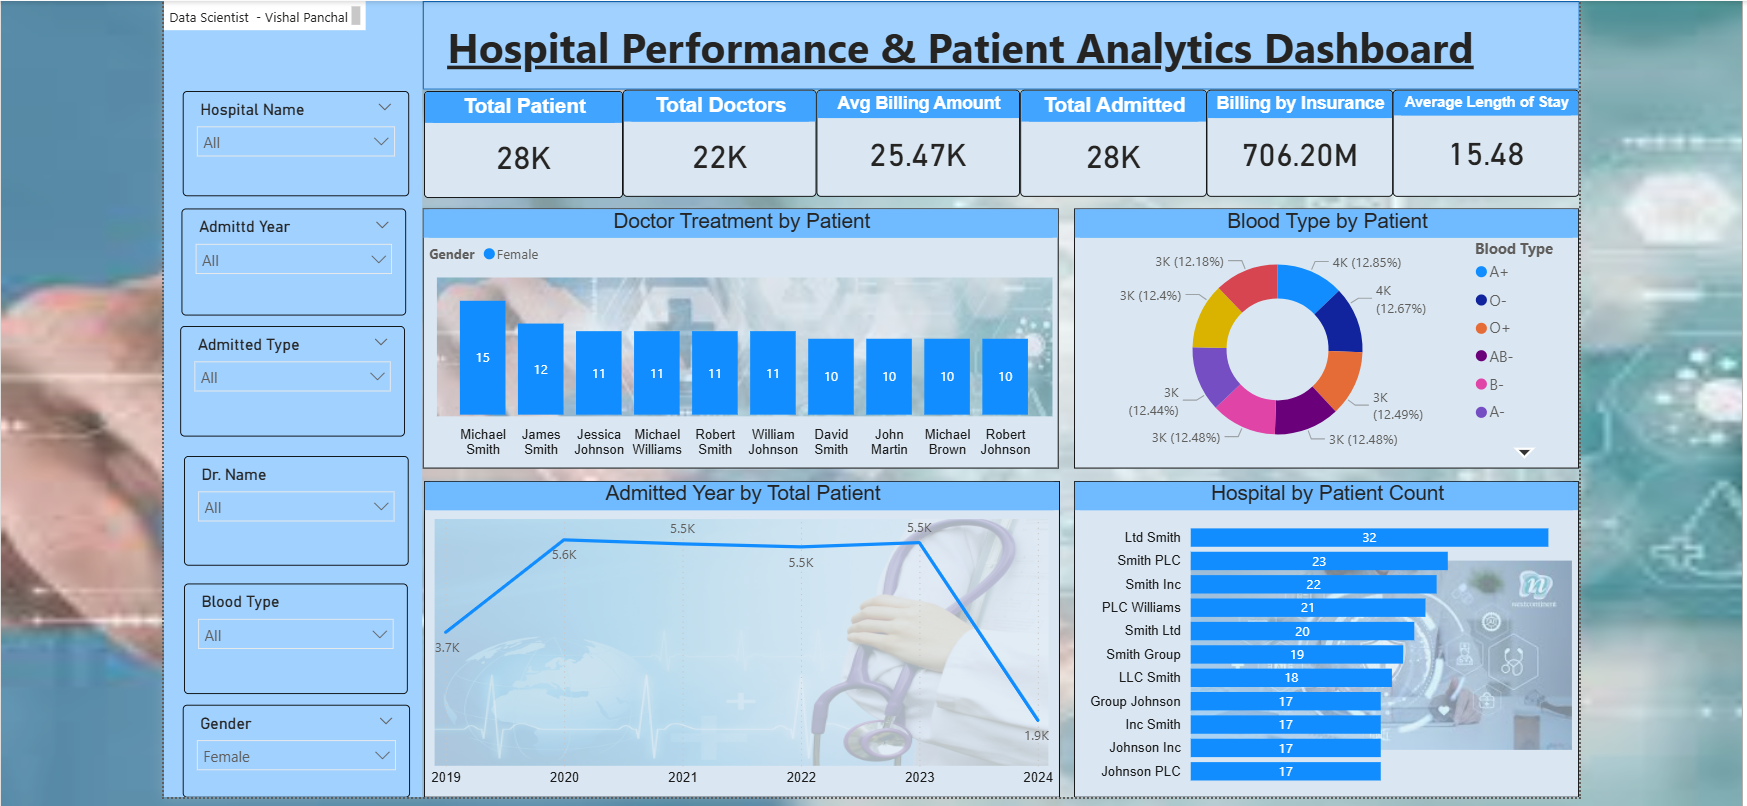

The dashboard page shown, as its layout file describes it:
{"tool":"powerbi","page":{"name":"Dashboard -1 ","canvas":[1280,720],"ordinal":4},"visuals":[{"type":"shape","box":[233.7,0,1046.5,80.2],"z":0},{"type":"card","title":"Total Patient","fields":{"Values":["healthcare_dataset.Total_Patient"]},"box":[234.9,81.4,180.2,96.5],"z":1000},{"type":"card","title":"Total Doctors","fields":{"Values":["Clean_Dataset.Total Docter"]},"box":[415.1,80.2,175.6,96.5],"z":2000},{"type":"card","title":"Avg Billing Amount","fields":{"Values":["Clean_Dataset.Avg Billing Amount"]},"box":[590.7,80.2,183.7,96.5],"z":3000},{"type":"card","title":"Billing by Insurance","fields":{"Values":["Clean_Dataset.Billing by Insurance"]},"box":[943,80.2,168.6,96.5],"z":4000},{"type":"card","title":"Average Length of Stay","fields":{"Values":["Clean_Dataset.Average Length of Stay"]},"box":[1111.6,80.2,168.6,96.5],"z":5000},{"type":"card","title":"Total Admitted","fields":{"Values":["Clean_Dataset.Total Admitted"]},"box":[774.4,80.2,168.6,96.5],"z":6000},{"type":"columnChart","title":"Doctor Treatment by Patient","fields":{"Y":["healthcare_dataset.Patient Count"],"Category":["healthcare_dataset.Doctor_Name"],"Series":["Clean_Dataset.Gender"]},"box":[233.7,187.2,575.6,234.9],"z":7000},{"type":"donutChart","title":"Blood Type by Patient","fields":{"Category":["healthcare_dataset.Blood Type"],"Y":["healthcare_dataset.Patient Count"]},"box":[823.3,187.2,457,234.9],"z":8000},{"type":"lineChart","title":" Admitted Year by Total Patient","fields":{"Category":["healthcare_dataset.Admittd Year"],"Y":["healthcare_dataset.Total Admitted"]},"box":[234.9,433.7,575.6,286],"z":9000},{"type":"clusteredBarChart","title":" Hospital by Patient Count","fields":{"Category":["healthcare_dataset.Hospital"],"Y":["healthcare_dataset.Patient Count"]},"box":[823.3,433.7,457,286],"z":10000},{"type":"textbox","box":[0,0,233.7,719.8],"z":11000},{"type":"slicer","fields":{"Values":["Clean_Dataset.Admittd Year"]},"box":[16.3,187.2,203.5,96.5],"z":12000},{"type":"slicer","fields":{"Values":["Clean_Dataset.Doctor_Name"]},"box":[18.6,411.6,203.5,98.8],"z":13000},{"type":"slicer","fields":{"Values":["Clean_Dataset.Admitted Type"]},"box":[15.1,294.2,203.5,100],"z":14000},{"type":"slicer","fields":{"Values":["Clean_Dataset.Blood Type"]},"box":[18.6,526.7,202.3,100],"z":15000},{"type":"slicer","fields":{"Values":["Clean_Dataset.Hospital"]},"box":[17.4,81.4,204.7,95.3],"z":16000},{"type":"textbox","box":[244.2,11.6,952.3,59.3],"z":17000},{"type":"slicer","fields":{"Values":["Clean_Dataset.Gender"]},"box":[17.4,636,205.8,83.7],"z":18000},{"type":"textbox","box":[0,0,182.6,26.7],"z":19000}]}

Visuals, with their boxes on the page's 1280x720 design canvas (x1, y1, x2, y2). These are canvas units, not pixel positions in the 1747x806 screenshot, which may show the page scaled, cropped or inside an application window:
shape: 234 0 1280 80
"Total Patient" card: 235 81 415 178
"Total Doctors" card: 415 80 591 177
"Avg Billing Amount" card: 591 80 774 177
"Billing by Insurance" card: 943 80 1112 177
"Average Length of Stay" card: 1112 80 1280 177
"Total Admitted" card: 774 80 943 177
"Doctor Treatment by Patient" columnChart: 234 187 809 422
"Blood Type by Patient" donutChart: 823 187 1280 422
" Admitted Year by Total Patient" lineChart: 235 434 810 720
" Hospital by Patient Count" clusteredBarChart: 823 434 1280 720
textbox: 0 0 234 720
slicer - Clean_Dataset.Admittd Year: 16 187 220 284
slicer - Clean_Dataset.Doctor_Name: 19 412 222 510
slicer - Clean_Dataset.Admitted Type: 15 294 219 394
slicer - Clean_Dataset.Blood Type: 19 527 221 627
slicer - Clean_Dataset.Hospital: 17 81 222 177
textbox: 244 12 1196 71
slicer - Clean_Dataset.Gender: 17 636 223 720
textbox: 0 0 183 27
